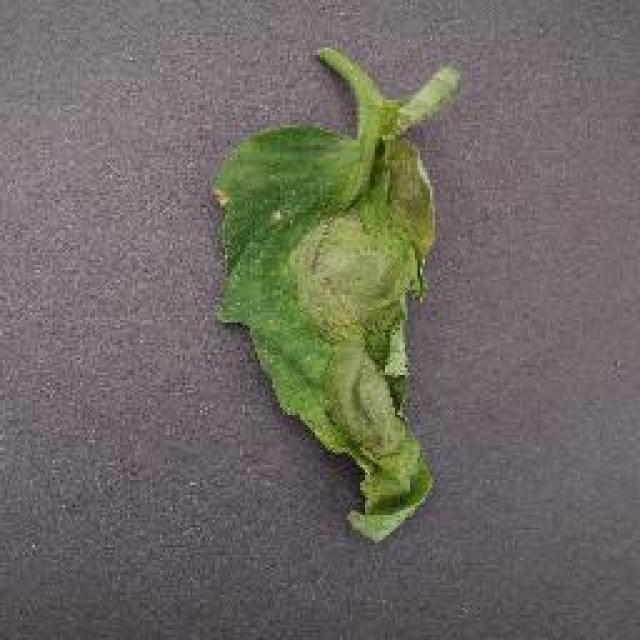Tomato Late Blight: (260, 134, 463, 528)
